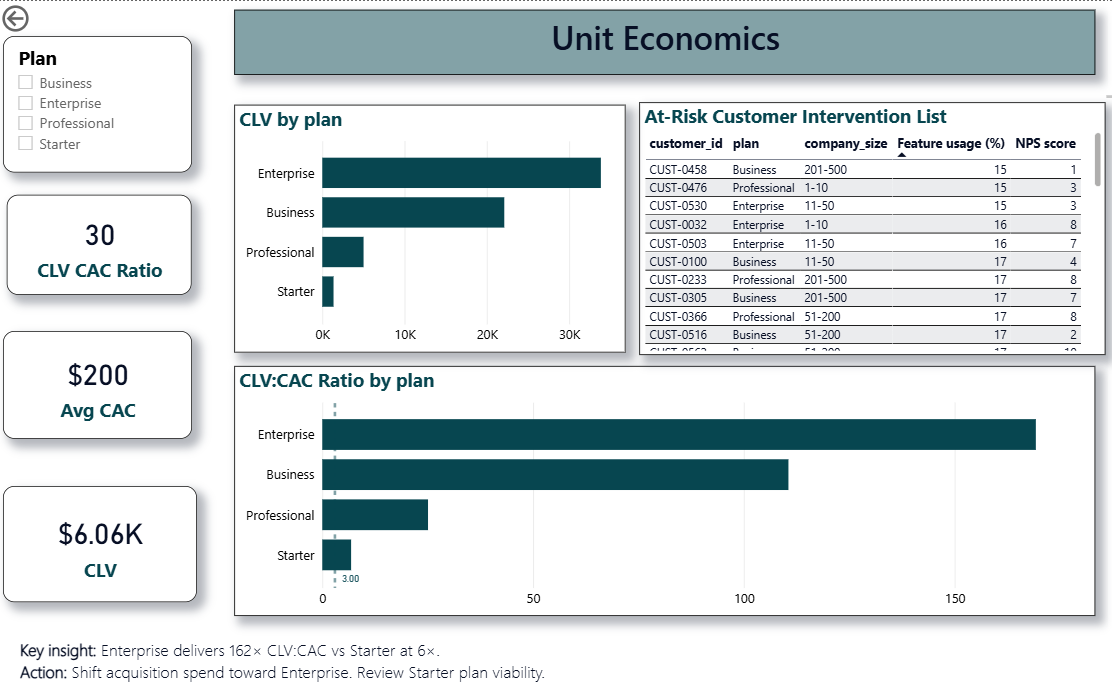

Layout of this report page (visuals, bound fields, positions):
{"tool":"powerbi","page":{"name":"Unit Economics","canvas":[1280,800],"ordinal":3},"visuals":[{"type":"clusteredBarChart","fields":{"Category":["subscriptions.plan"],"Y":["subscriptions.CLV"]},"box":[270,118.6,447.1,282.9],"z":0},{"type":"clusteredBarChart","title":"CLV:CAC Ratio by plan","fields":{"Category":["subscriptions.plan"],"Y":["subscriptions.CLV CAC Ratio"]},"box":[270,417.1,984.3,285.7],"z":1000},{"type":"card","fields":{"Values":["subscriptions.CLV CAC Ratio"]},"box":[10,221.4,211.4,114.3],"z":2000},{"type":"card","fields":{"Values":["monthly_revenue(1).Avg CAC"]},"box":[5.7,377.1,215.7,122.9],"z":3000},{"type":"card","fields":{"Values":["subscriptions.CLV"]},"box":[5.7,554.3,221.4,132.9],"z":4000},{"type":"tableEx","title":"At-Risk Customer Intervention List","fields":{"Values":["subscriptions.customer_id","subscriptions.plan","subscriptions.company_size","Sum(subscriptions.feature_usage_pct)","Sum(subscriptions.nps_score)"]},"box":[732.9,115.7,532.9,288.6],"z":5000},{"type":"actionButton","box":[0,0,100,40],"z":6000},{"type":"slicer","fields":{"Values":["subscriptions.plan"]},"box":[5.7,40,215.7,155.7],"z":6001},{"type":"textbox","box":[984.3,102.9,295.7,12.9],"z":6002},{"type":"textbox","box":[20,724.3,1097.1,75.7],"z":6003},{"type":"textbox","box":[270,10,984.3,74.3],"z":6004}]}

Visuals, with their boxes in screenshot pixels (x1, y1, x2, y2), scaled from the page's 1280x800 canvas onto the 1112x698 screenshot:
clusteredBarChart - subscriptions.plan x subscriptions.CLV: [left=235, top=103, right=623, bottom=350]
"CLV:CAC Ratio by plan" clusteredBarChart: [left=235, top=364, right=1090, bottom=613]
card - subscriptions.CLV CAC Ratio: [left=9, top=193, right=192, bottom=293]
card - monthly_revenue(1).Avg CAC: [left=5, top=329, right=192, bottom=436]
card - subscriptions.CLV: [left=5, top=484, right=197, bottom=600]
"At-Risk Customer Intervention List" tableEx: [left=637, top=101, right=1100, bottom=353]
actionButton: [left=0, top=0, right=87, bottom=35]
slicer - subscriptions.plan: [left=5, top=35, right=192, bottom=171]
textbox: [left=855, top=90, right=1111, bottom=101]
textbox: [left=17, top=632, right=970, bottom=697]
textbox: [left=235, top=9, right=1090, bottom=74]
